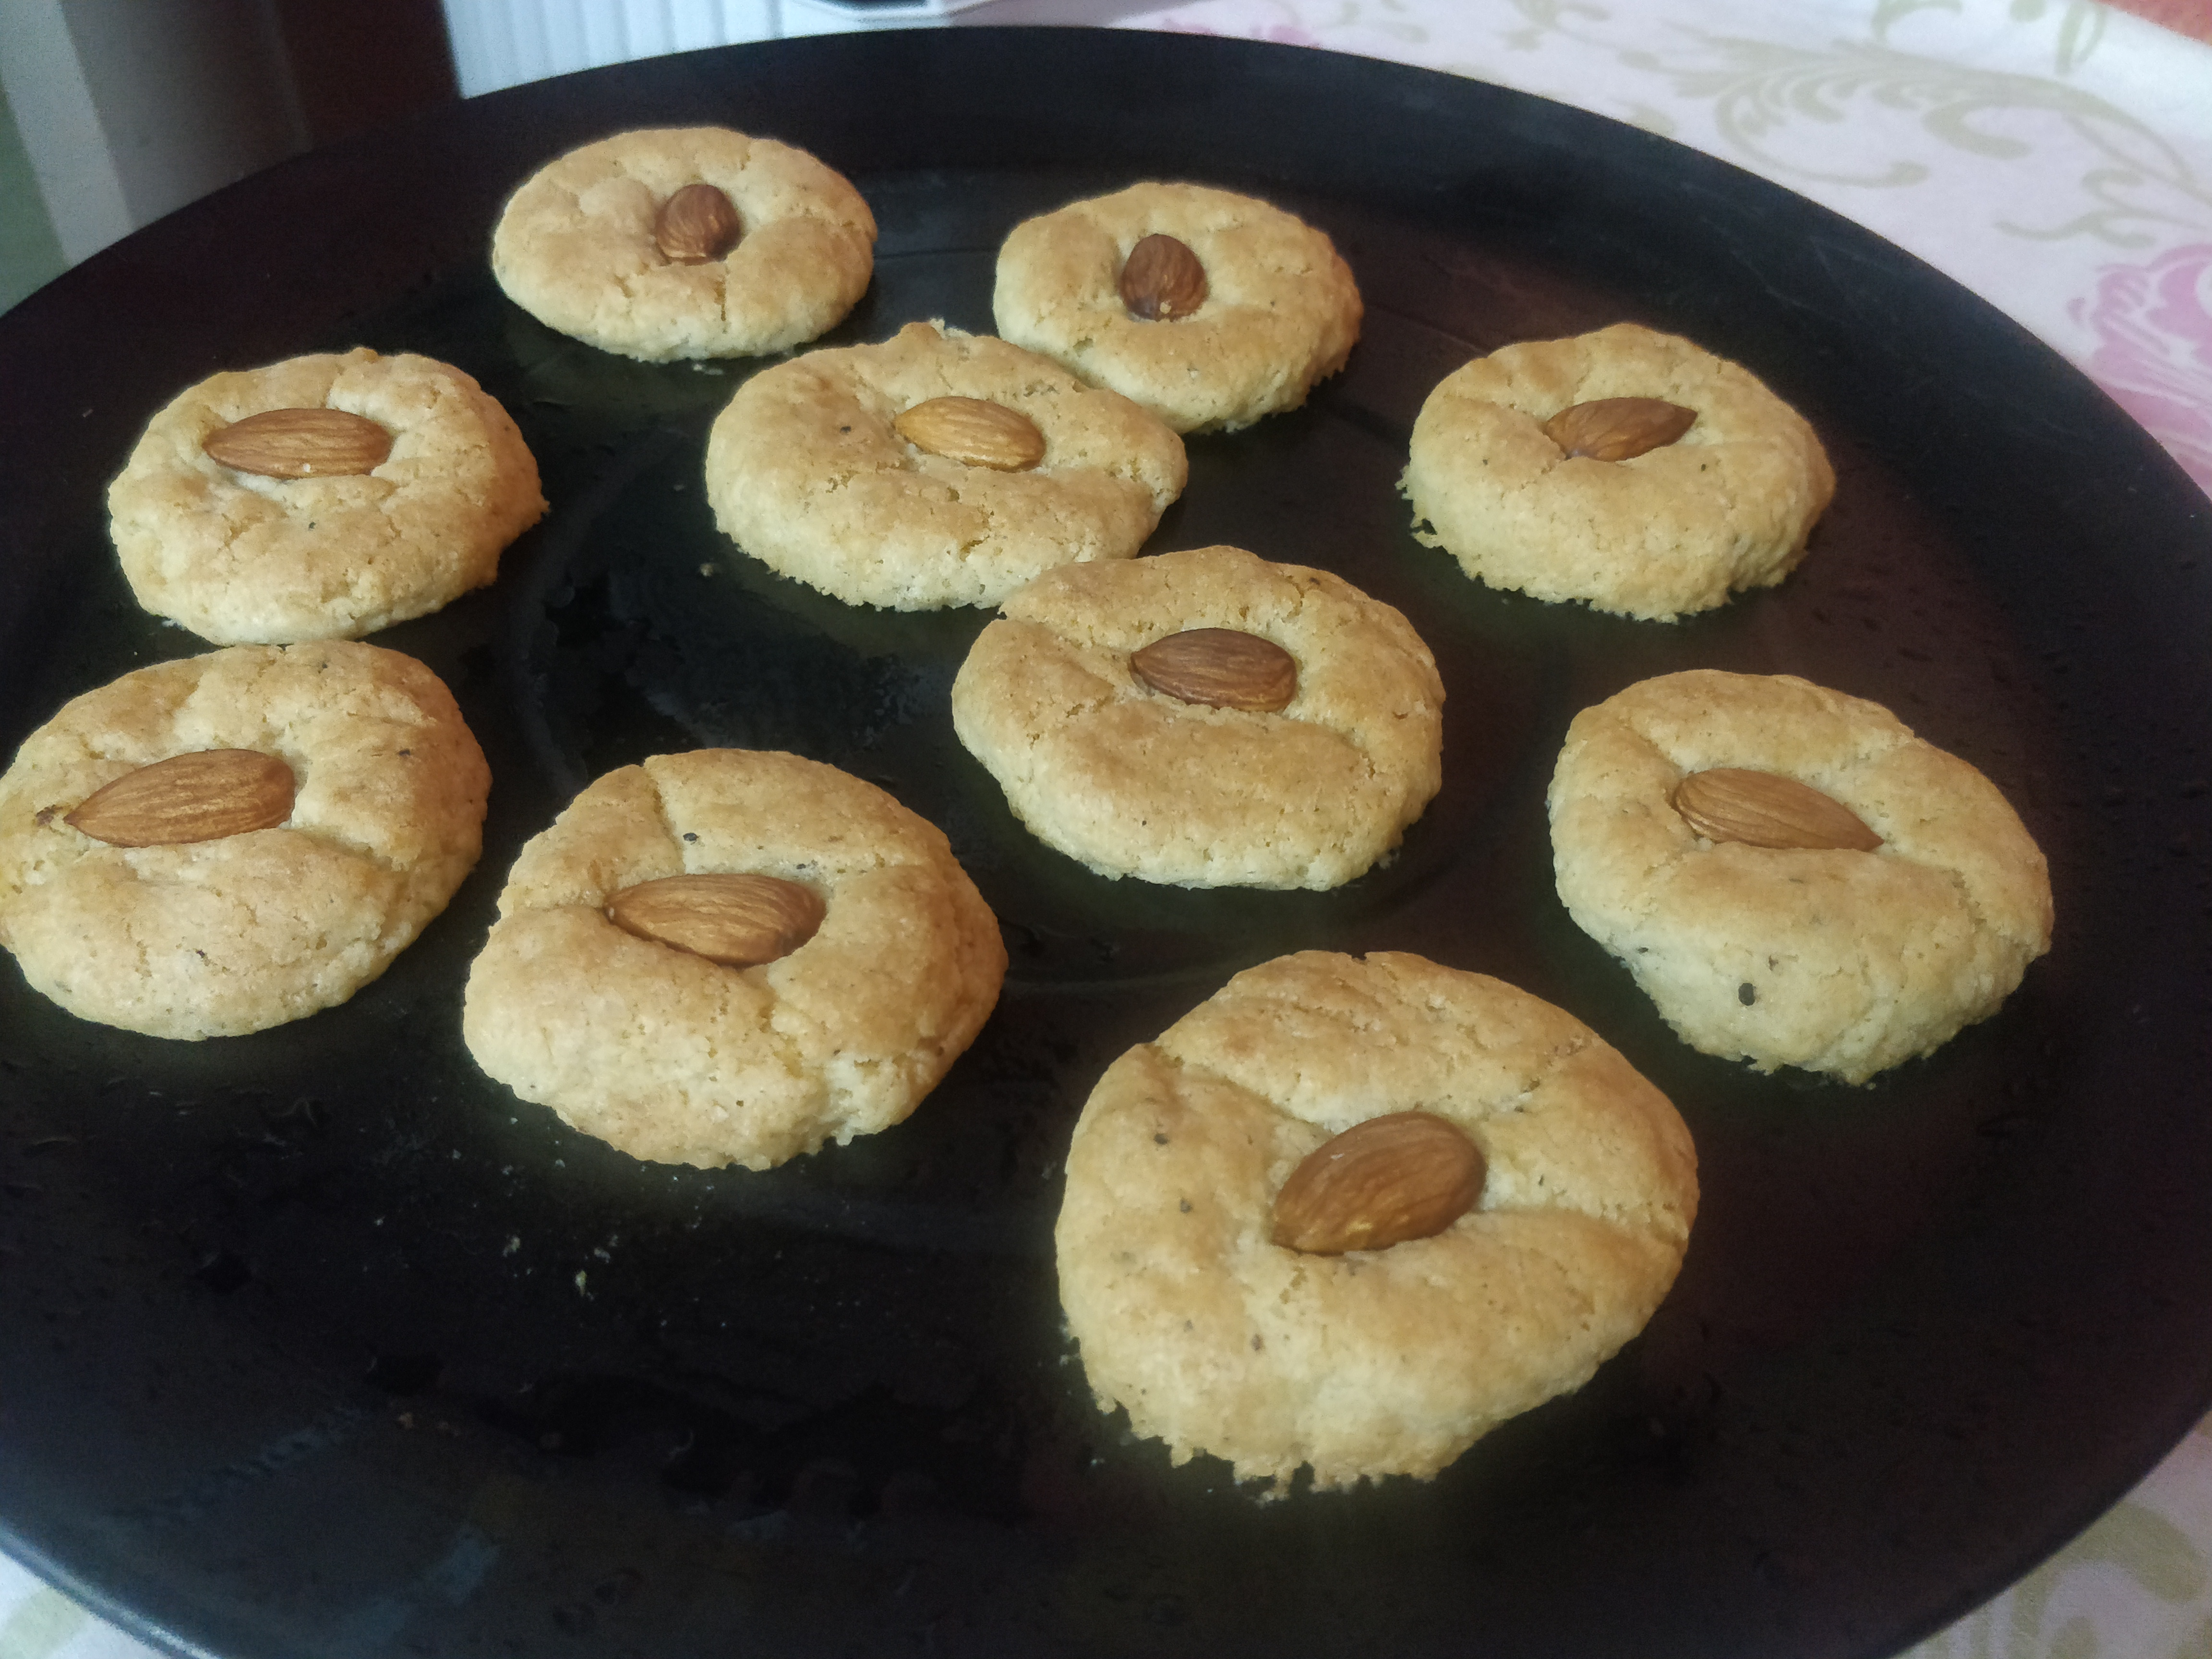food: (0, 115, 2064, 1504)
